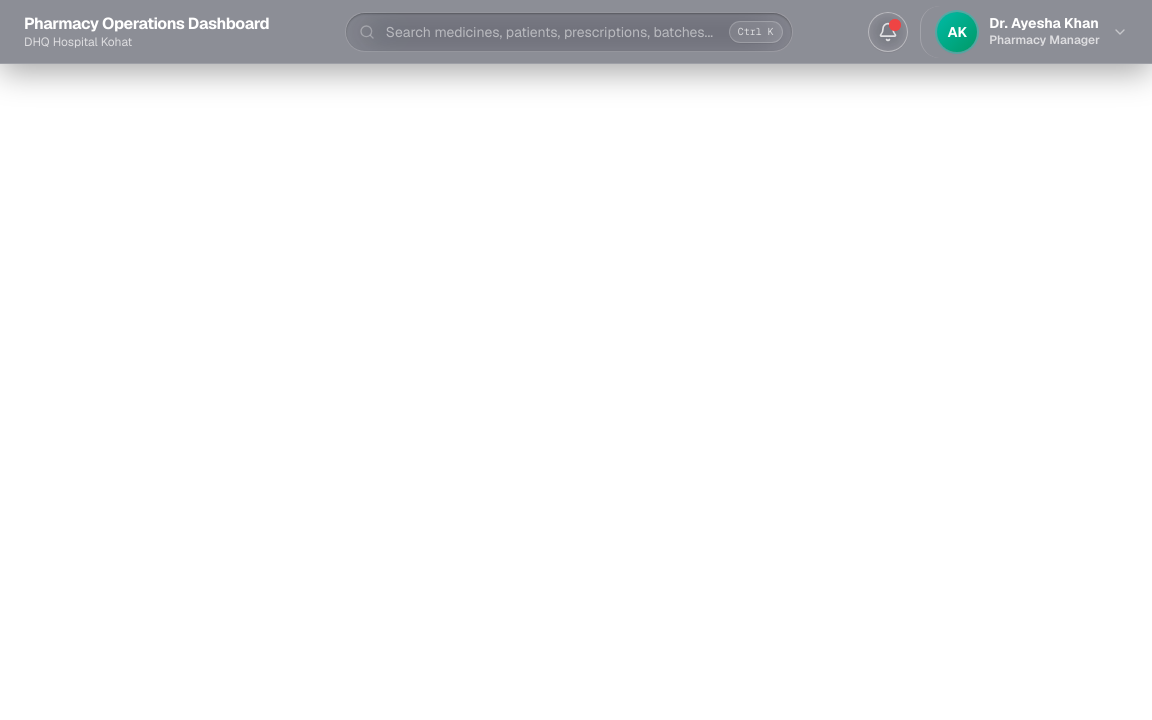
Header Component › opens search palette and shows quick actions and categories
Click the button with aria-label "search shortcut" at (756, 32), box left=729, top=20, right=783, bottom=42
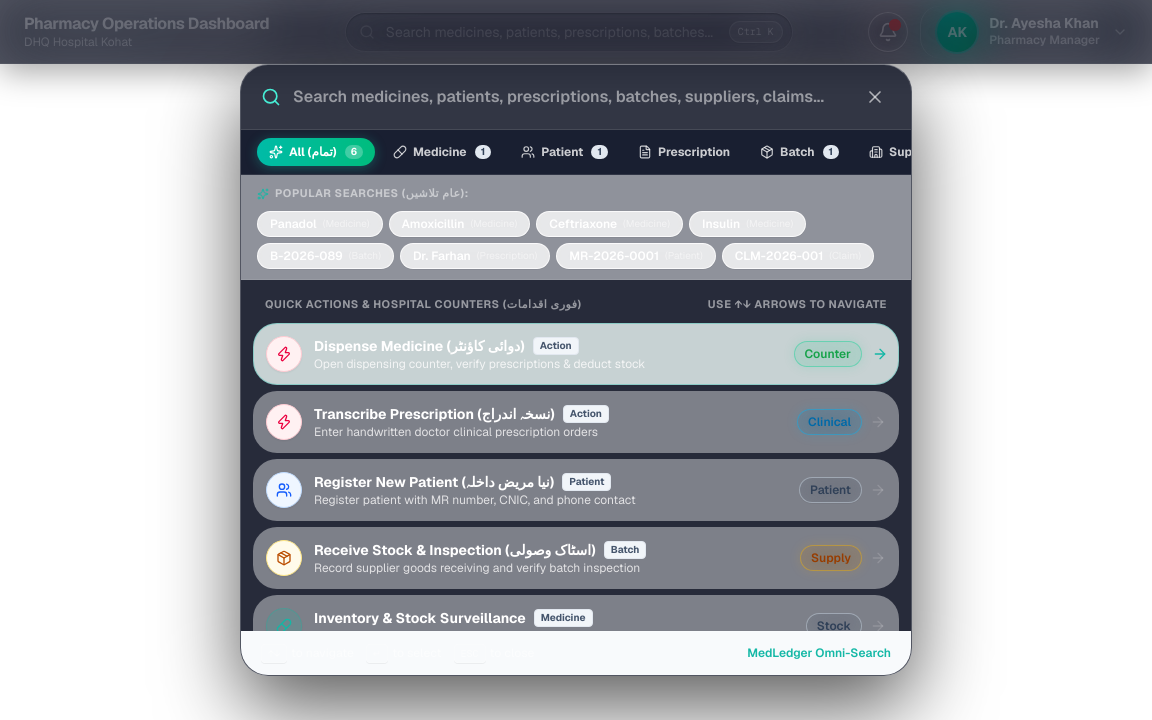
Now the text "Popular Searches (عام تلاشیں):" is shown, box left=275, top=185, right=469, bottom=203
Now the text "Dispense Medicine (دوائی کاؤنٹر)" is shown, box left=314, top=336, right=525, bottom=356
Now the text "All (تمام)" is shown, box left=289, top=144, right=337, bottom=160
